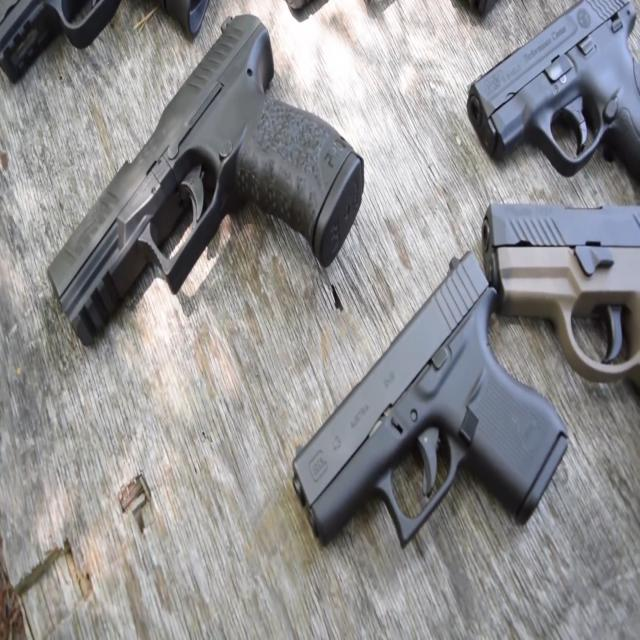handgun: (53, 20, 350, 397), (260, 278, 585, 556), (477, 182, 640, 384), (462, 0, 640, 172)
